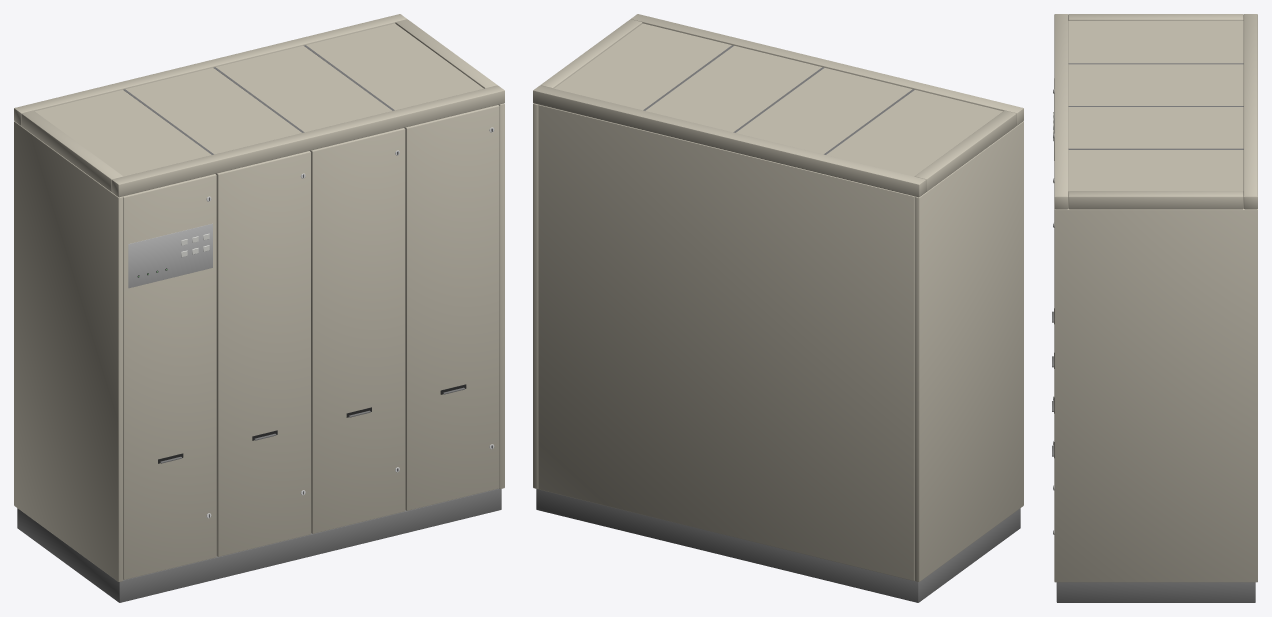
Rendered from Kit_CRACUnit.fbx.
3 views of the same model, side by side, from view 1: azimuth 30°, elevation 25°; view 2: azimuth 150°, elevation 25°; view 3: azimuth 270°, elevation 25° (orthographic). The views are drawn at different scales.
Visible parts, largest first — view 1: Kit_CRACUnit_LOD0; view 2: Kit_CRACUnit_LOD0; view 3: Kit_CRACUnit_LOD0.
Part boxes in pixels (x1,y1,x2,y2): Kit_CRACUnit_LOD0: [14, 14, 504, 602]; Kit_CRACUnit_LOD0: [533, 14, 1023, 602]; Kit_CRACUnit_LOD0: [1052, 14, 1257, 602].
Size of what is drawn, in the model's own units: 1.83 by 1.9 by 0.87.
